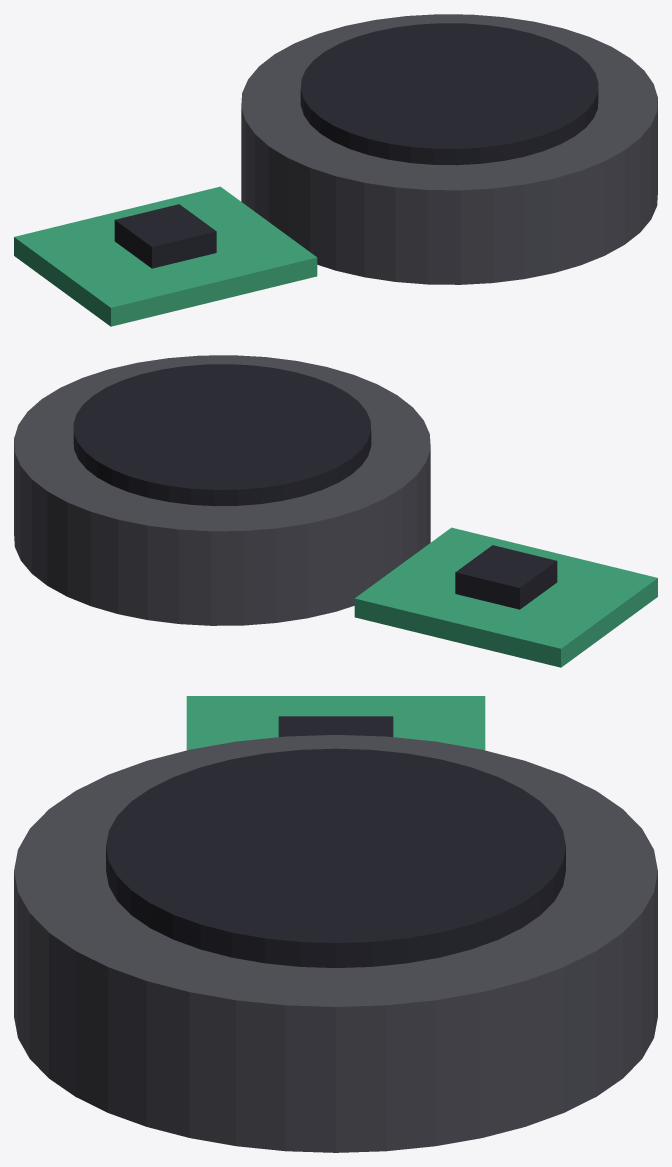
Rendered from speaker_p.glb.
The picture shows the model from 3 angles, top to bottom: view 1: azimuth 30°, elevation 25°; view 2: azimuth 150°, elevation 25°; view 3: azimuth 270°, elevation 25°; orthographic projection. The views are drawn at different scales.
Parts seen in each view (by area): view 1: Speaker; view 2: Speaker; view 3: Speaker.
Boxes of the visible parts, x1,y1,x2,y2 form: Speaker: (14,14,657,326); Speaker: (14,355,657,667); Speaker: (14,696,657,1152).
Size of the model in its own units: 44 by 8.2 by 28.
